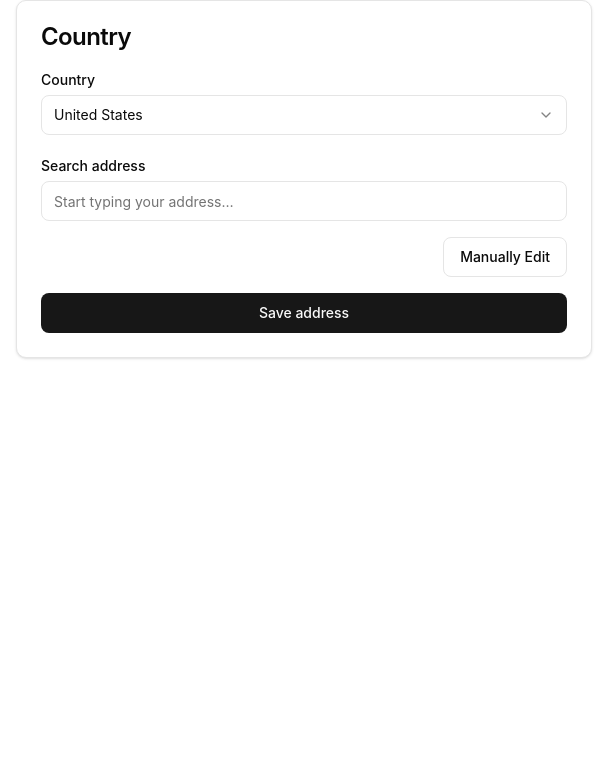
Test: AddressForm — runtime validation & country switch (US2) › rejects a wrong-length ZIP with a metadata-derived format error
Click the button "Manually Edit" at (505, 257), box [443,237,567,277]
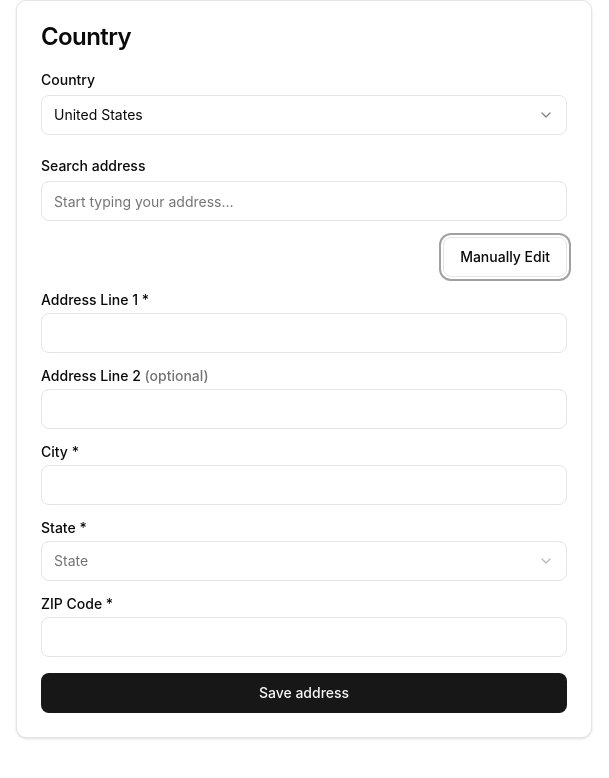
Type "123" into the field labelled "ZIP Code *" at (304, 637), box [41,617,567,657]
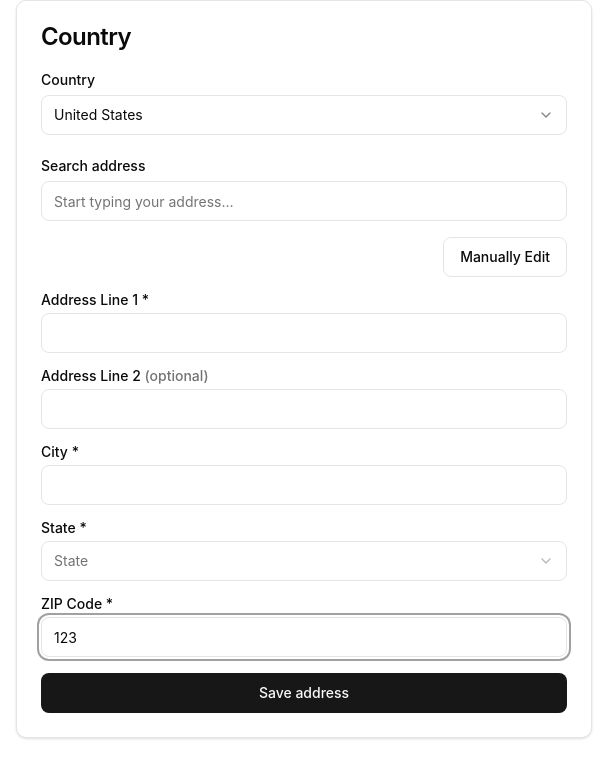
Click the button "Save address" at (304, 693), box [41,673,567,713]
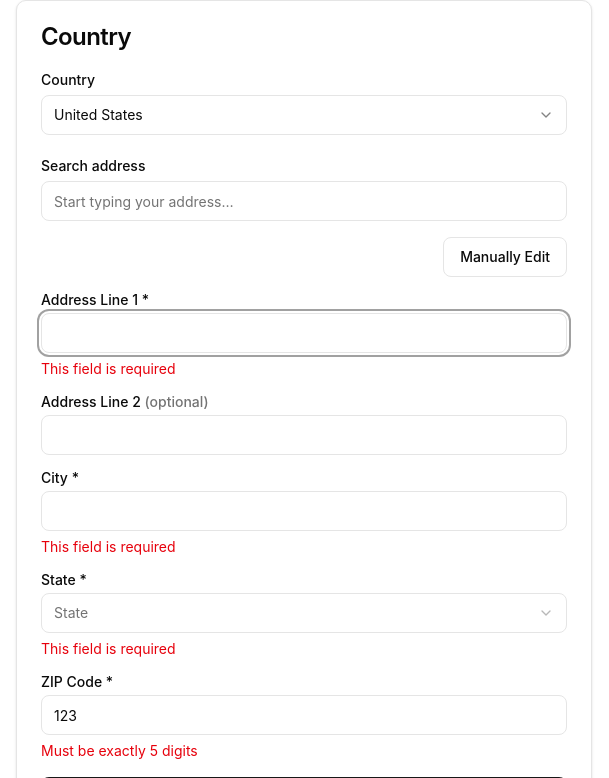
Expected: the text "Must be exactly 5 digits" is shown, [41,742,198,759]
